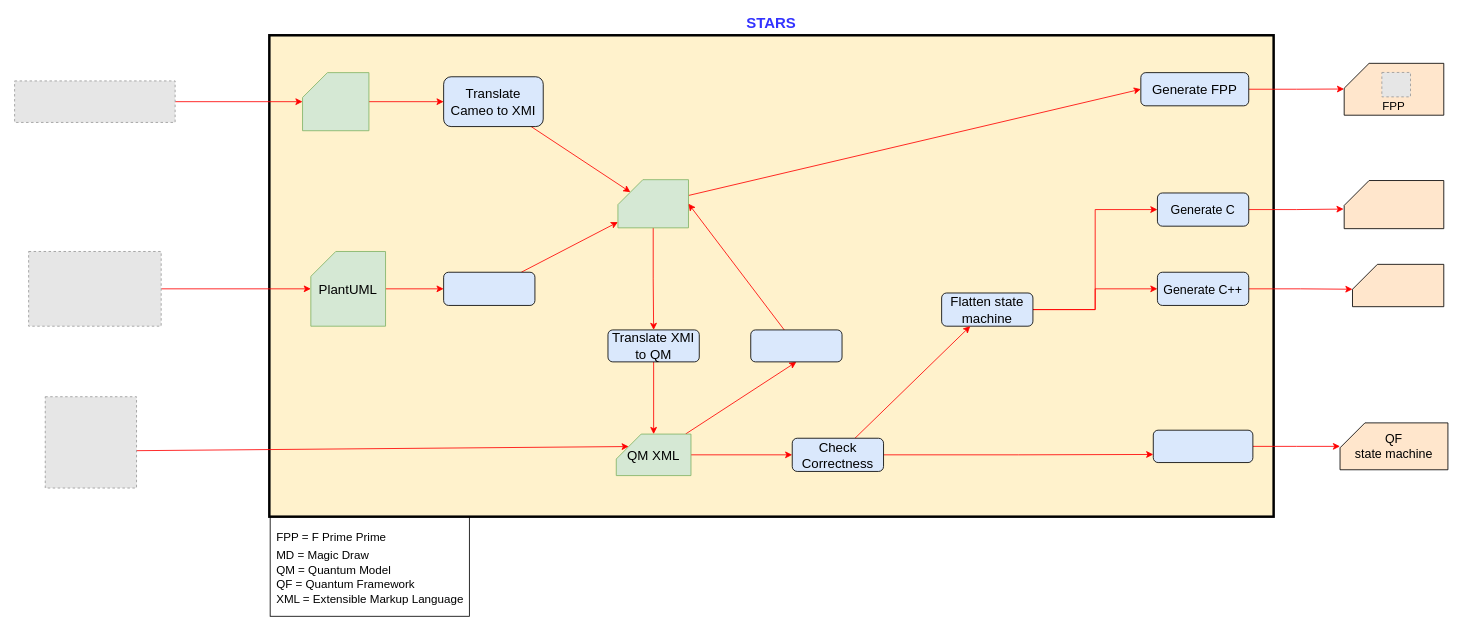
Image size: 1462x631. Some labels were removed from this diagram. Grey dashed boxes stand in for pictures. The centre of each missing label's shape, as x and y in pixels:
C state machine: the point at 1393,204
C++ state machine: the point at 1398,285
Cameo XML: the point at 335,101
Generate QF: the point at 1202,446
Translate QM to XMI: the point at 796,345
Translate UML to XMI: the point at 489,288
XMI Model: the point at 652,203
